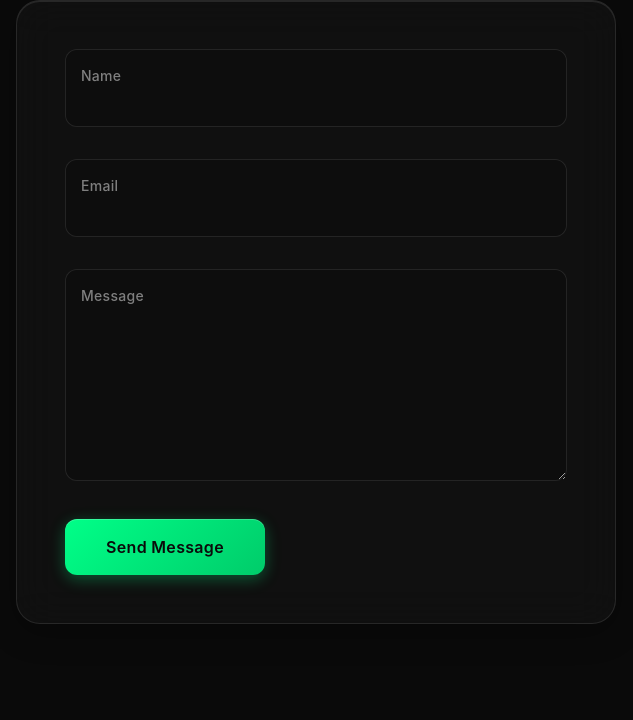
Test: ContactForm › displays validation error for invalid email
This screenshot has width=633, height=720.
Type "invalid-email" into the field labelled "Email" at (316, 198), box top-left (65, 159), bottom-right (567, 237)
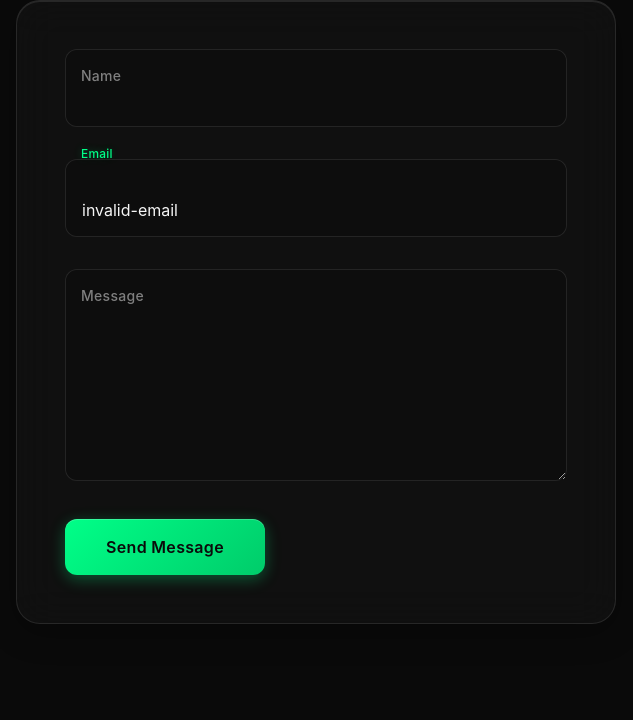
Click the button "Send Message" at (165, 547), box top-left (65, 519), bottom-right (265, 575)
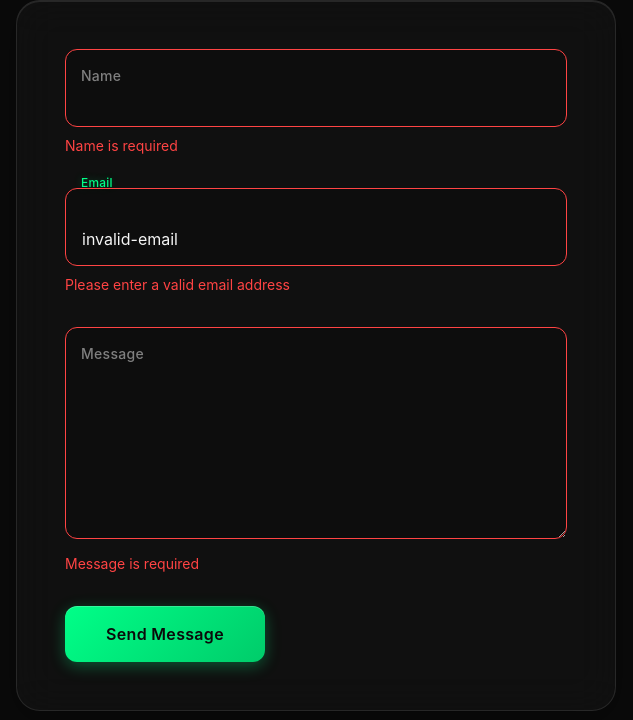
Expected: the text "Please enter a valid email address" is shown, top-left (65, 276), bottom-right (290, 293)
